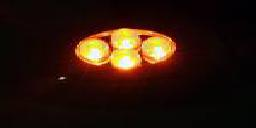LED: (66, 25, 184, 76)
